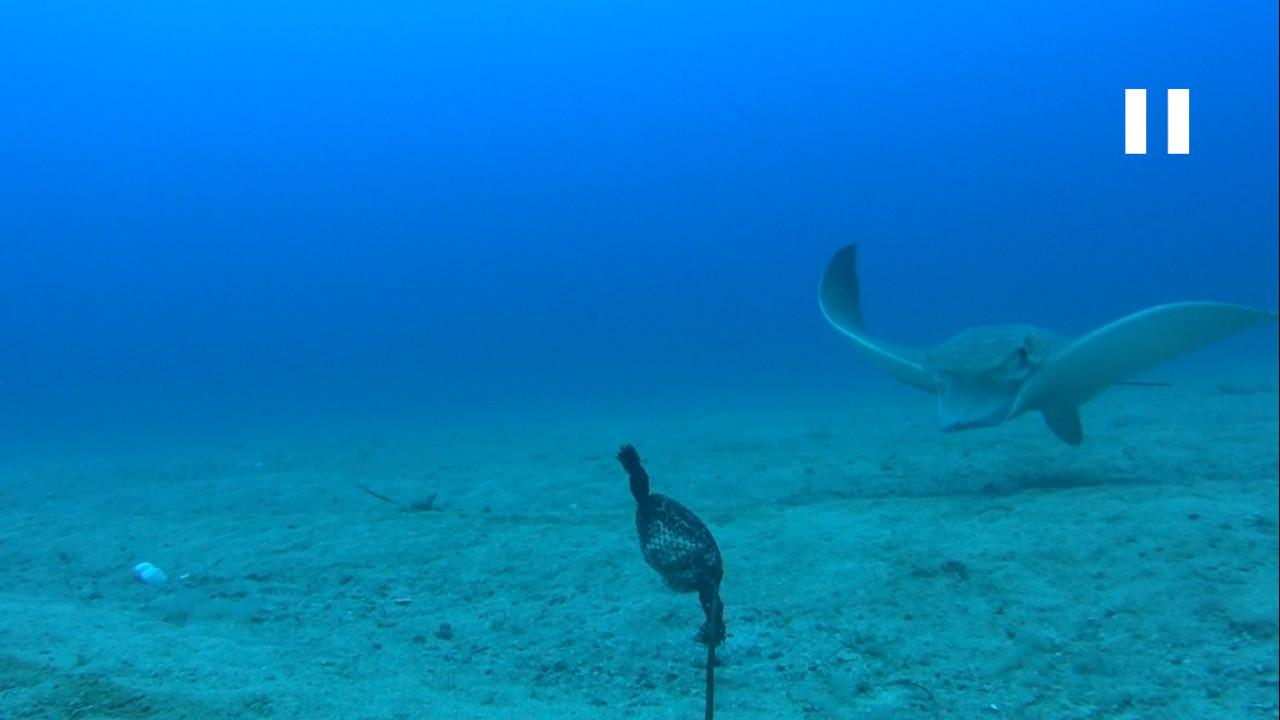myliobatis: (808, 234, 1274, 455)
